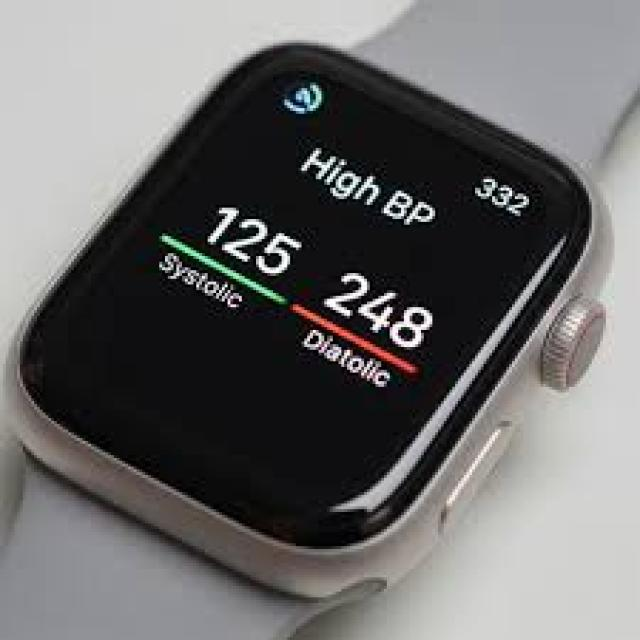objects: (16, 41, 609, 593)
